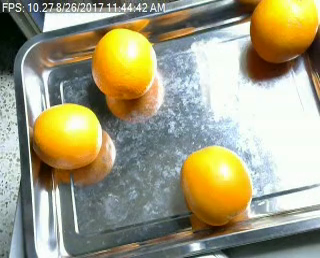Orange: (181, 143, 253, 226), (91, 26, 157, 100), (33, 104, 101, 171), (250, 1, 320, 63)
